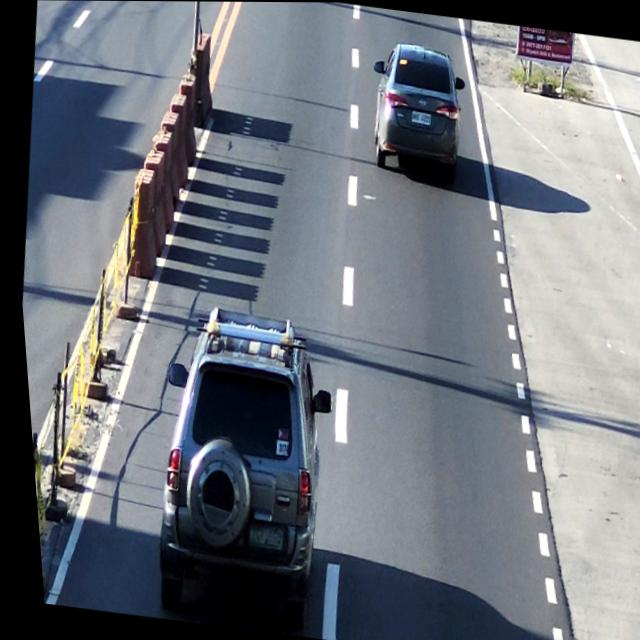Car: (133, 302, 339, 602), (359, 40, 473, 174)
License-Plate: (238, 522, 278, 554), (406, 107, 432, 127)
